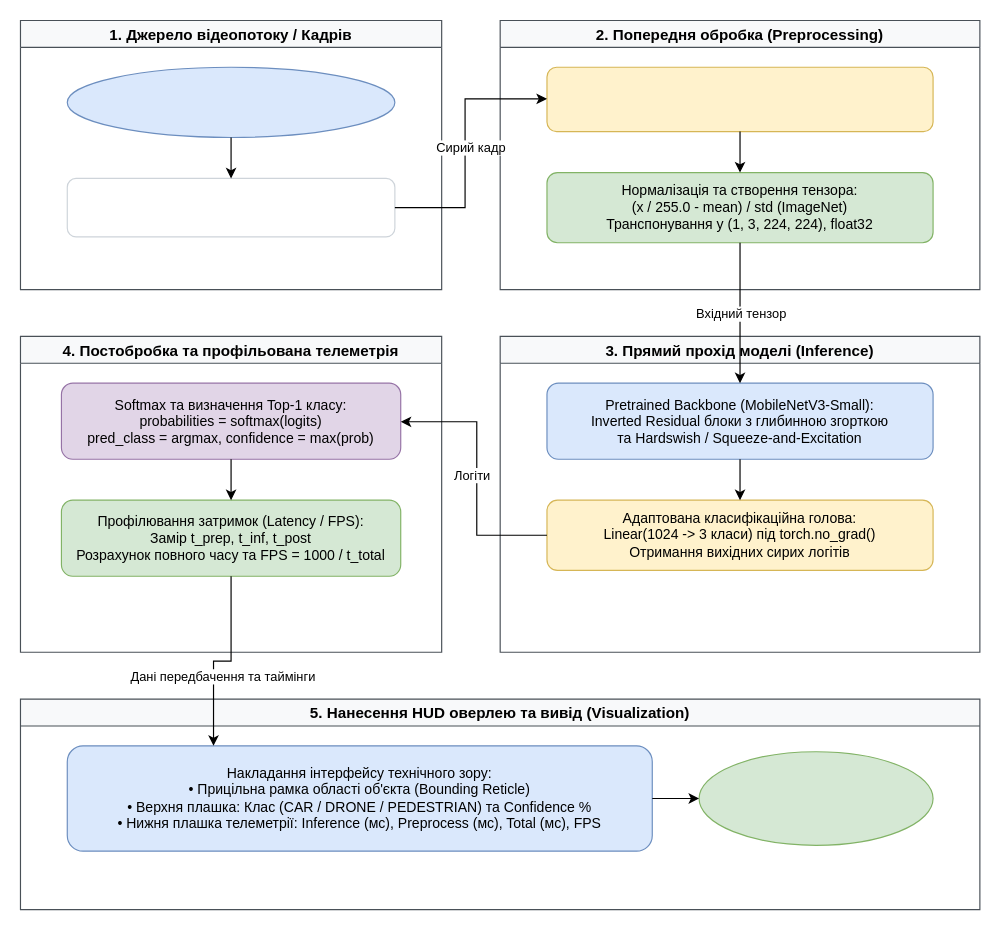
The diagram is 1000 pixels wide and 930 high, and some of its shapes have lost their labels. Here are the shapes that lost their labels. From the top down, the centre of each, then its label:
At pixel 230 101: "Джерело зображень: Камера / Відеофайл / Датасет (cv2.VideoCapture, cv2.imread)".
At pixel 739 99: "Конвертація та ресайз: BGR -> RGB (cv2.COLOR_BGR2RGB) Resize до (224 × 224)".
At pixel 230 207: "Зчитування сирого кадру: frame_bgr (H × W × 3, uint8)".
At pixel 815 798: "Вивід результату: cv2.imshow / Відеофайл / Збереження кадру".
